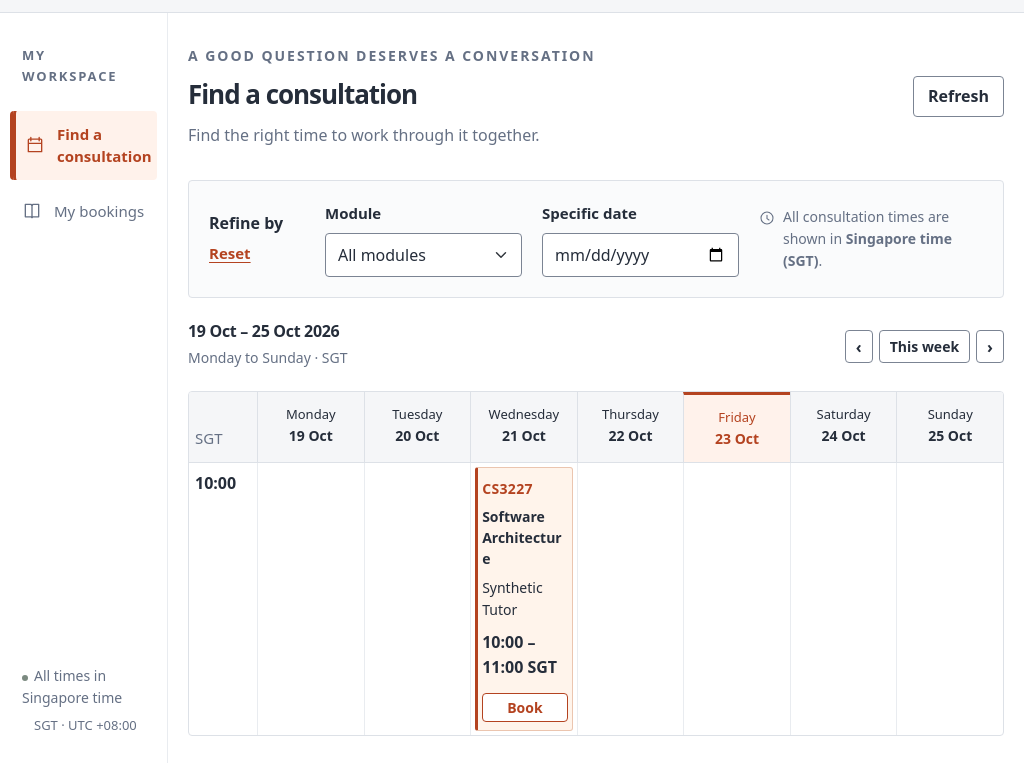
it: FE2-BOOK confirm submits exact slotId once with CSRF, awaits success and refreshes loaded views
(page scrolled)
Click the button "Book": (525, 708) [482,693,568,722]
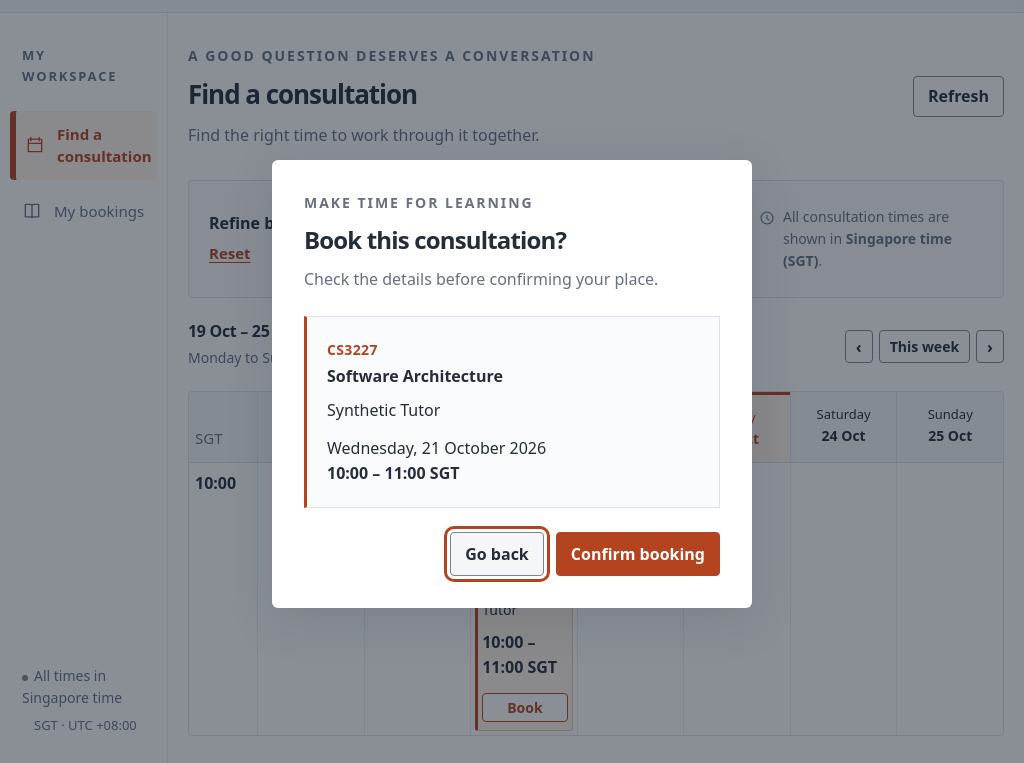
Click the button "Confirm booking": (638, 554) [556,532,720,576]
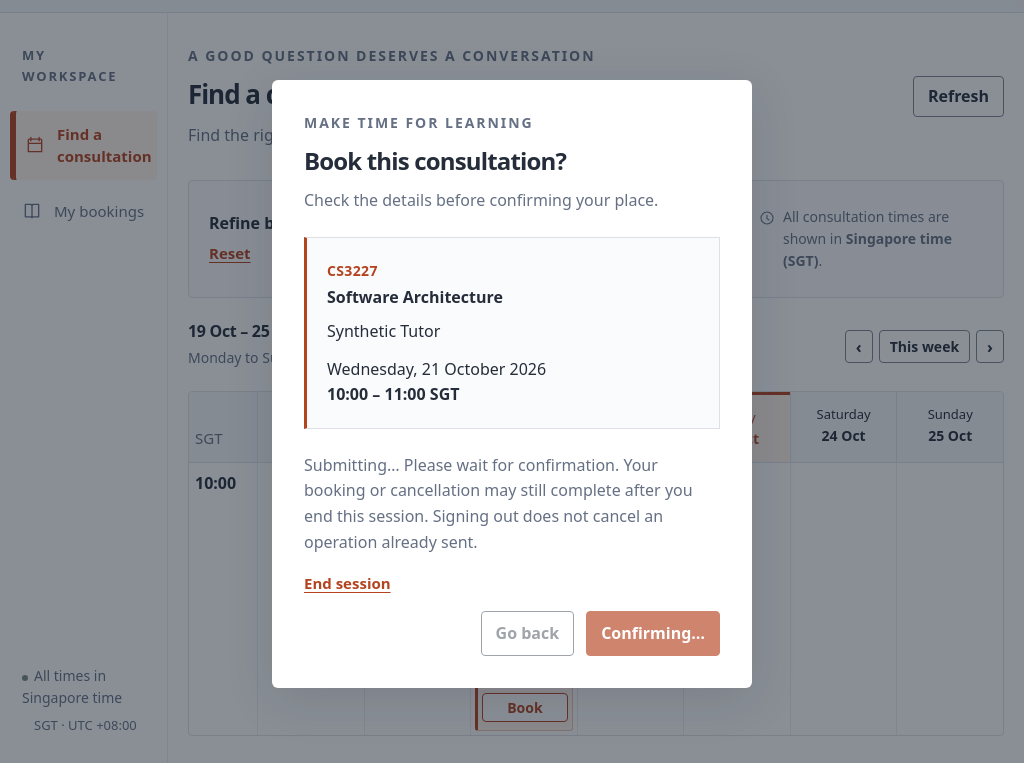
Check: the text "booking confirmed" is not shown
Check: the button "Confirming…" is disabled
Click the button "Confirming…": (653, 633) [586,611,720,656]
(page scrolled)
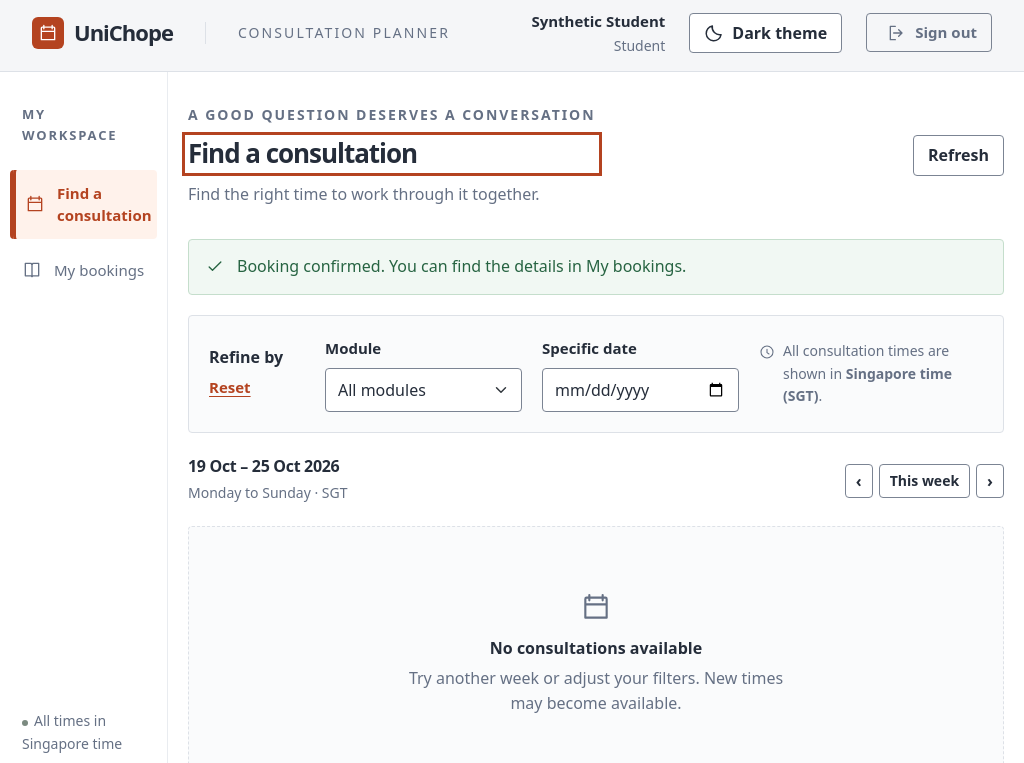
Check: the text "Booking confirmed. You can find the details in My bookings." is shown, box [188,239,1004,295]
Click the link "My bookings": (83, 270) [22,260,144,280]
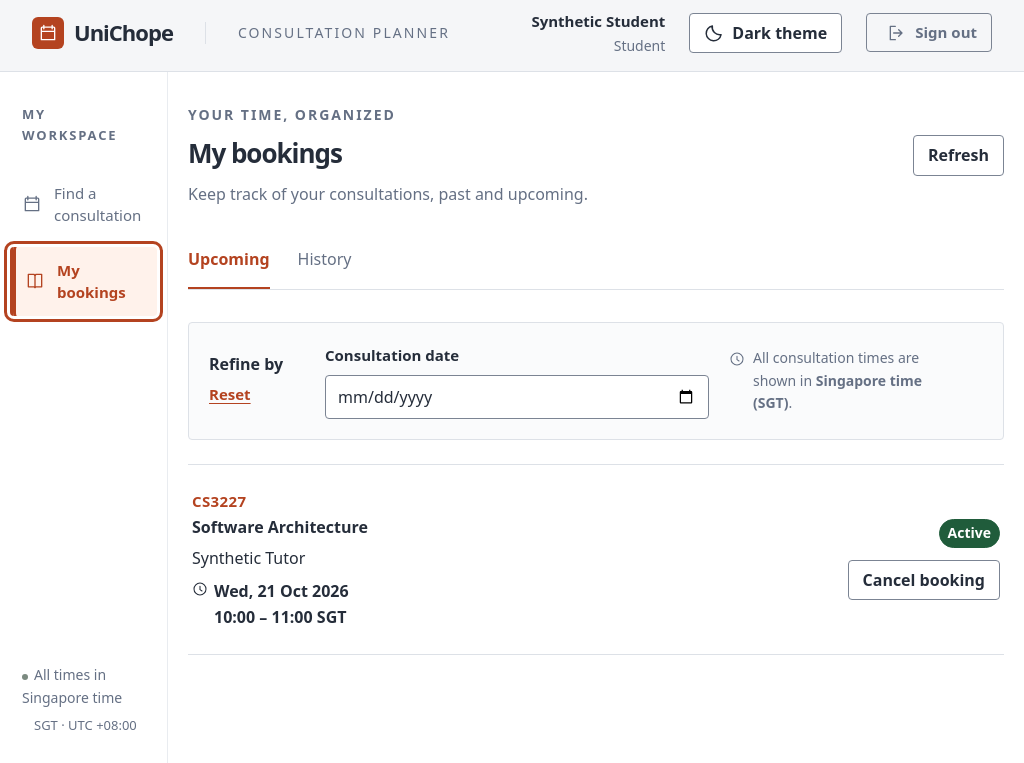
Check: the text "Synthetic Tutor" is shown, box [192,546,305,568]
